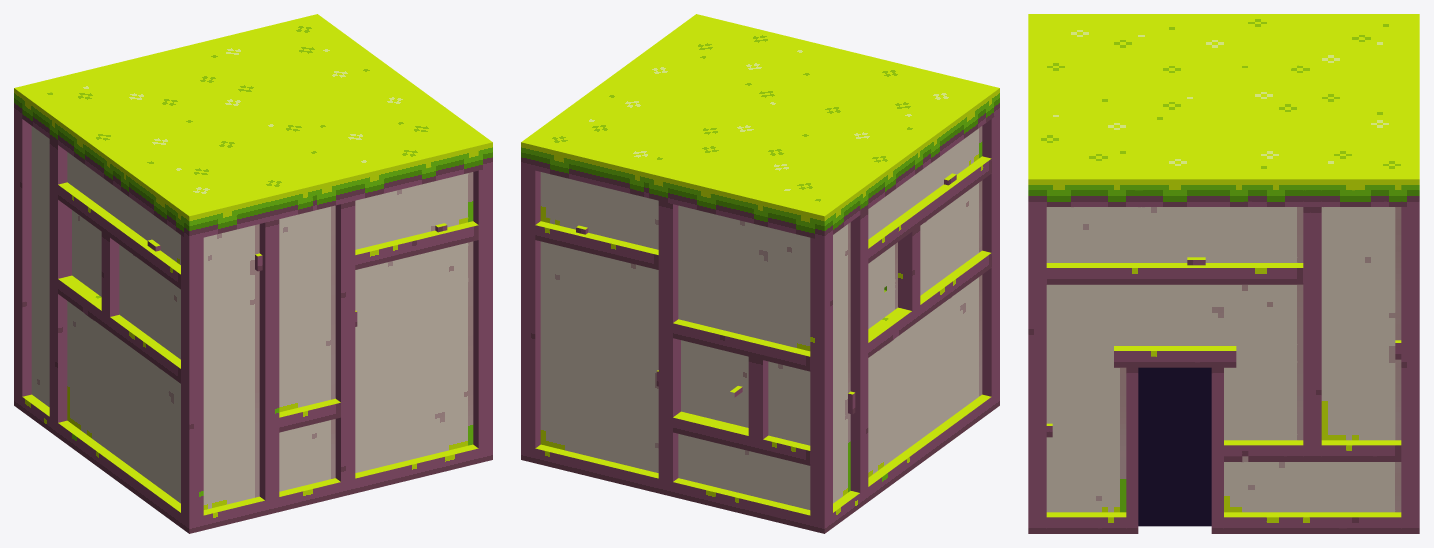
Rendered from newhouse_aao.fezao.glb.
3 views of the same model, side by side, from view 1: azimuth 30°, elevation 25°; view 2: azimuth 150°, elevation 25°; view 3: azimuth 270°, elevation 25° (orthographic). The views are drawn at different scales.
Visible parts, largest first — view 1: newhouse_AAO; view 2: newhouse_AAO; view 3: newhouse_AAO.
Boxes of the visible parts, left/top/right/bottom form: newhouse_AAO: left=14, top=14, right=492, bottom=533; newhouse_AAO: left=521, top=14, right=999, bottom=533; newhouse_AAO: left=1028, top=14, right=1419, bottom=533.
Size of the model in its own units: 4 by 4 by 4.
1 material, 1 textured.
